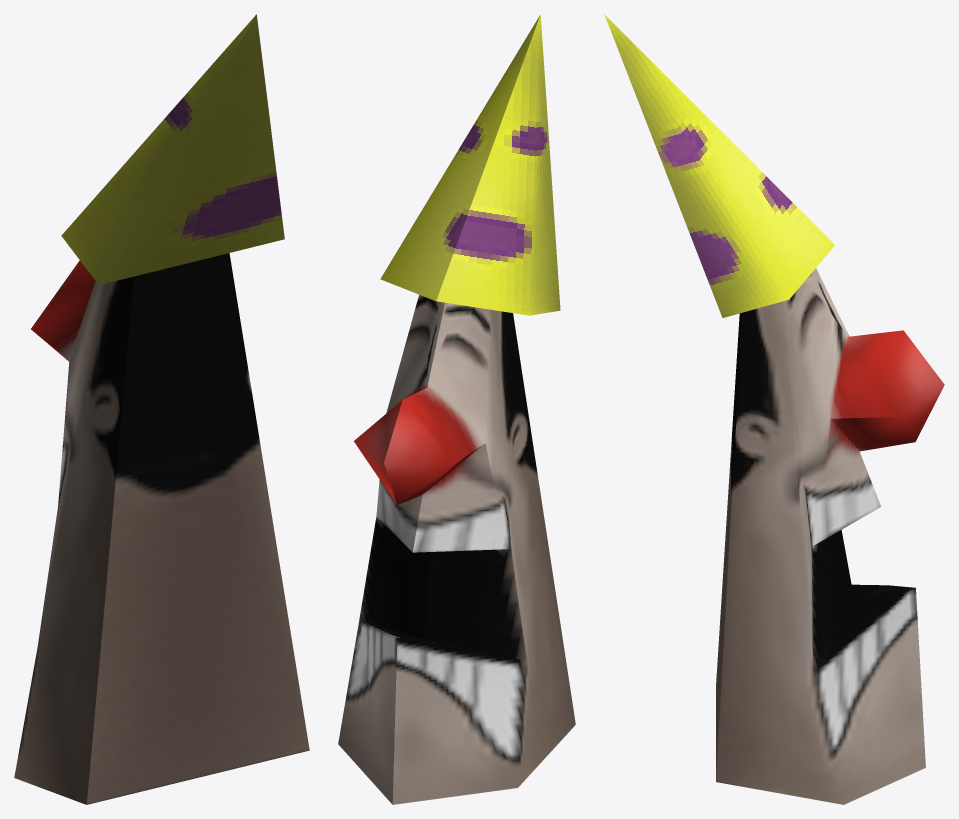
File: clown2.glb
3 views of the same model, side by side, from view 1: azimuth 30°, elevation 25°; view 2: azimuth 150°, elevation 25°; view 3: azimuth 270°, elevation 25° (orthographic). The views are drawn at different scales.
Visible parts, largest first — view 1: pasted__TheClownHat2; view 2: pasted__TheClownHat2; view 3: pasted__TheClownHat2.
Part boxes in pixels (bbox=[...]): pasted__TheClownHat2: bbox=[14, 14, 309, 804]; pasted__TheClownHat2: bbox=[338, 14, 575, 804]; pasted__TheClownHat2: bbox=[604, 14, 944, 804].
Bounding box in the file's own units: 0.6316 × 2.3 × 0.9418.
2 materials, 2 textured.
